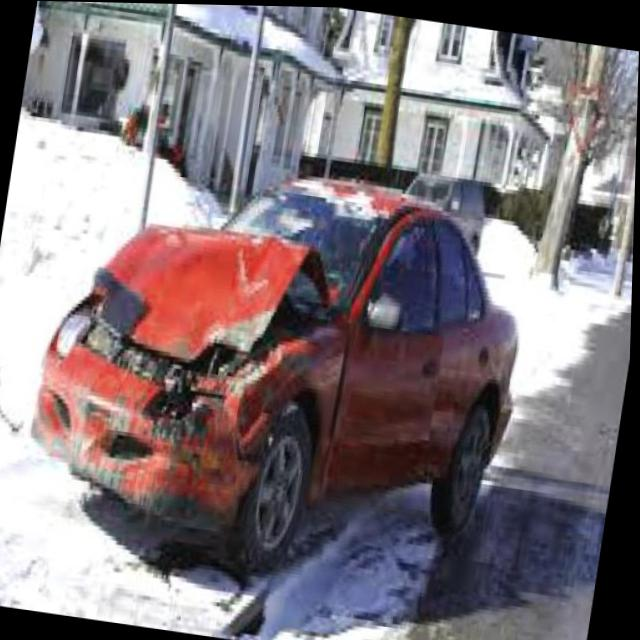Car-Damage: (16, 201, 366, 557)
